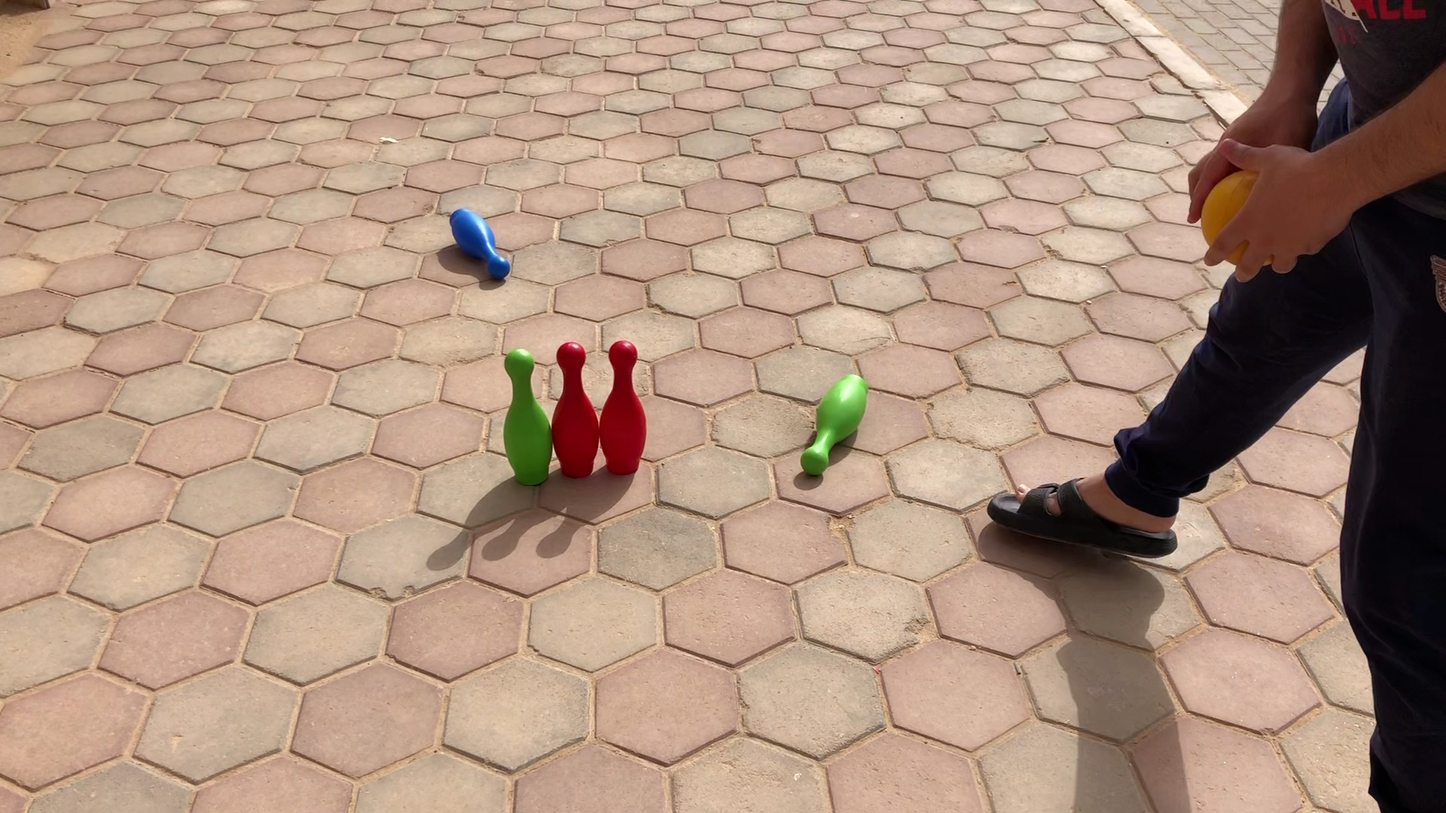bowling-pin: (503, 349, 552, 484), (552, 342, 600, 478), (599, 340, 646, 475), (804, 374, 864, 473), (450, 208, 513, 279)
